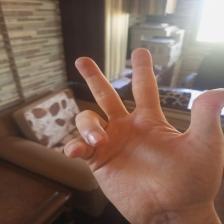three: (62, 49, 222, 211)
